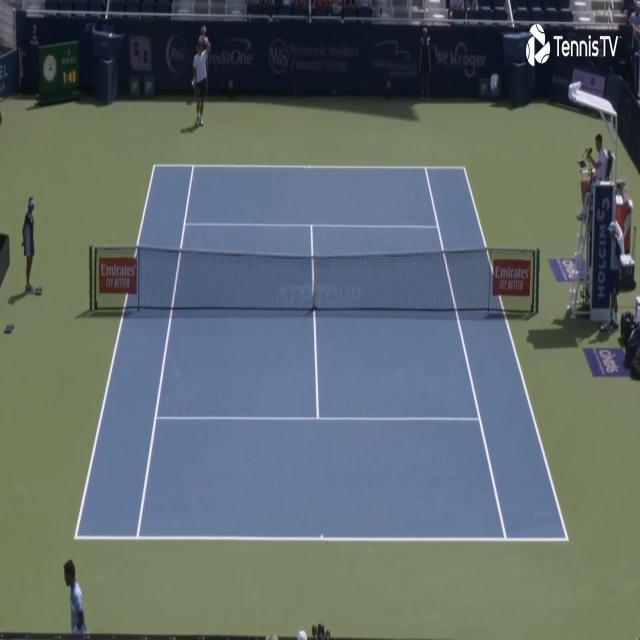tennis-player: (187, 27, 213, 134)
